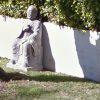Statue: (8, 2, 55, 84)
